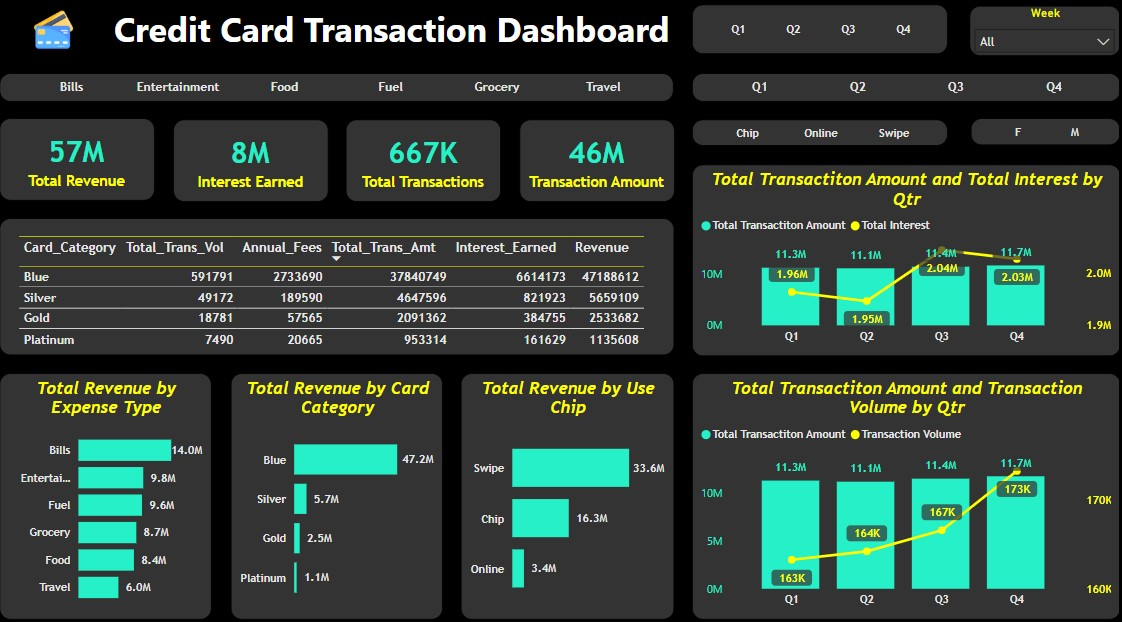

What the dashboard file says about the page in this screenshot:
{"tool":"powerbi","page":{"name":"Transaction dashboard","canvas":[1280,720],"ordinal":0},"visuals":[{"type":"textbox","box":[139.3,26.2,645.7,55.2],"z":0},{"type":"slicer","fields":{"Values":["customer.Gender"]},"box":[1089.5,102.9,163.3,30.2],"z":1000},{"type":"slicer","fields":{"Values":["credit_card.Qtr"]},"box":[784.5,25,281,54.8],"z":2000},{"type":"slicer","fields":{"Values":["credit_card.Exp_Type"]},"box":[25,100,740,30.9],"z":4000},{"type":"slicer","title":"Week","fields":{"Values":["credit_card.Week_Start_Date"]},"box":[1090,25.5,165.2,55.1],"z":5000},{"type":"slicer","fields":{"Values":["credit_card.Use_Chip"]},"box":[786.3,102.9,279.9,28.8],"z":6000},{"type":"card","fields":{"Values":["Sum(credit_card.Revenue)"]},"box":[25,150,170,90.6],"z":7000},{"type":"card","fields":{"Values":["Sum(credit_card.Total_Trans_Amt)"]},"box":[595,150.9,170,90.6],"z":8000},{"type":"card","fields":{"Values":["Sum(credit_card.Total_Trans_Vol)"]},"box":[405,150.9,170,90],"z":9000},{"type":"card","fields":{"Values":["Sum(credit_card.Interest_Earned)"]},"box":[215,150.9,170,90.6],"z":10000},{"type":"tableEx","fields":{"Values":["credit_card.Card_Category","Sum(credit_card.Total_Trans_Vol)","Sum(credit_card.Annual_Fees)","Sum(credit_card.Total_Trans_Amt)","Sum(credit_card.Interest_Earned)","Sum(credit_card.Revenue)"]},"box":[24.8,259.4,740.9,150.4],"z":11000},{"type":"lineStackedColumnComboChart","fields":{"Category":["credit_card.Qtr"],"Y":["Sum(credit_card.Total_Trans_Amt)"],"Y2":["Sum(credit_card.Interest_Earned)"]},"box":[784.9,149.6,470.7,260.7],"z":12000},{"type":"lineStackedColumnComboChart","fields":{"Category":["credit_card.Qtr"],"Y":["Sum(credit_card.Total_Trans_Amt)"],"Y2":["Sum(credit_card.Total_Trans_Vol)"]},"box":[785,430,470,270],"z":13000},{"type":"barChart","title":"Total Revenue by Card Category","fields":{"Category":["credit_card.Card_Category"],"Y":["Sum(credit_card.Revenue)"]},"box":[278,430,233,270],"z":14000},{"type":"barChart","title":"Total Revenue by Expense Type","fields":{"Y":["Sum(credit_card.Revenue)"],"Category":["credit_card.Exp_Type"]},"box":[25,430,233,270],"z":15000},{"type":"barChart","title":"Total Revenue by Use Chip","fields":{"Y":["Sum(credit_card.Revenue)"],"Category":["credit_card.Use_Chip"]},"box":[531,430,234,270],"z":16000},{"type":"image","box":[45.5,24.8,77.3,55.2],"z":17000}]}

Visuals, with their boxes in screenshot pixels (x1, y1, x2, y2), scaled from the page's 1280x720 canvas onto the 1122x622 screenshot:
textbox: x1=122, y1=23, x2=688, y2=70
slicer - customer.Gender: x1=955, y1=89, x2=1098, y2=115
slicer - credit_card.Qtr: x1=688, y1=22, x2=934, y2=69
slicer - credit_card.Exp_Type: x1=22, y1=86, x2=671, y2=113
"Week" slicer: x1=955, y1=22, x2=1100, y2=70
slicer - credit_card.Use_Chip: x1=689, y1=89, x2=935, y2=114
card - Sum(credit_card.Revenue): x1=22, y1=130, x2=171, y2=208
card - Sum(credit_card.Total_Trans_Amt): x1=522, y1=130, x2=671, y2=209
card - Sum(credit_card.Total_Trans_Vol): x1=355, y1=130, x2=504, y2=208
card - Sum(credit_card.Interest_Earned): x1=188, y1=130, x2=337, y2=209
tableEx - credit_card.Card_Category x Sum(credit_card.Total_Trans_Vol): x1=22, y1=224, x2=671, y2=354
lineStackedColumnComboChart - credit_card.Qtr x Sum(credit_card.Total_Trans_Amt): x1=688, y1=129, x2=1101, y2=354
lineStackedColumnComboChart - credit_card.Qtr x Sum(credit_card.Total_Trans_Amt): x1=688, y1=371, x2=1100, y2=605
"Total Revenue by Card Category" barChart: x1=244, y1=371, x2=448, y2=605
"Total Revenue by Expense Type" barChart: x1=22, y1=371, x2=226, y2=605
"Total Revenue by Use Chip" barChart: x1=465, y1=371, x2=671, y2=605
image: x1=40, y1=21, x2=108, y2=69
